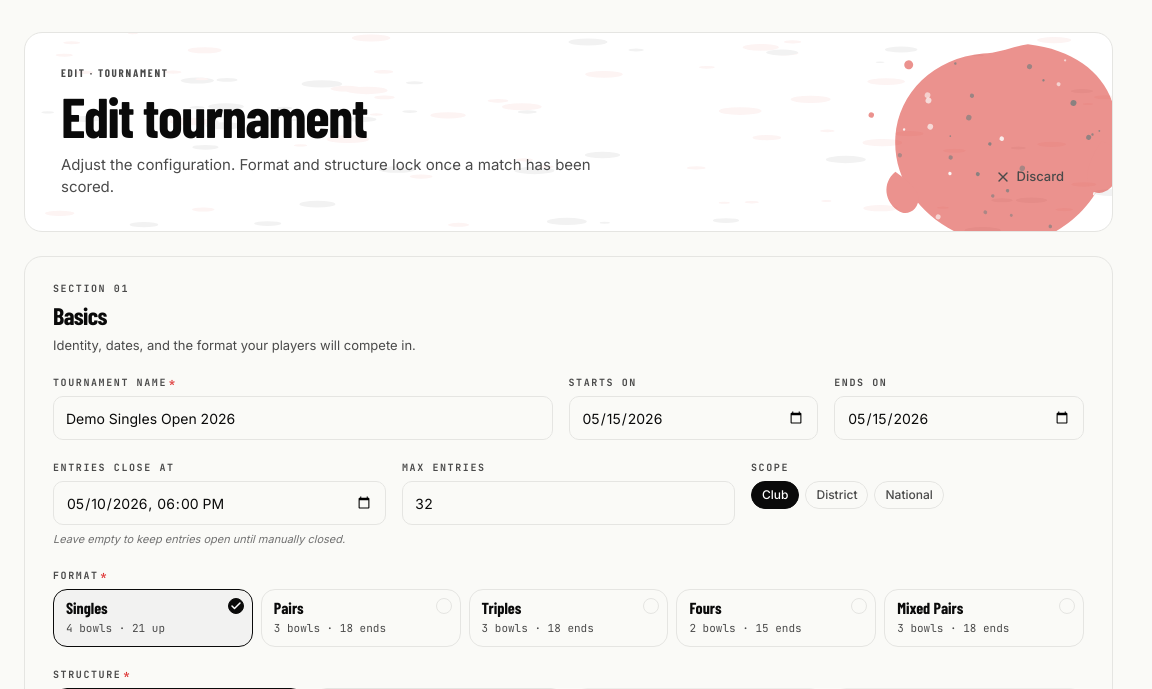
Test: <EditTournamentForm /> — rename soft-warn › shows the rename soft-warn when softWarnRename=true AND the user has typed a different name
Note: Synchronous React 19 controlled-input update via fireEvent.
Replace the text in the field labelled "Tournament name*" with "Demo Singles Open 2026 (renamed)" at (303, 418), box [53,396,552,440]
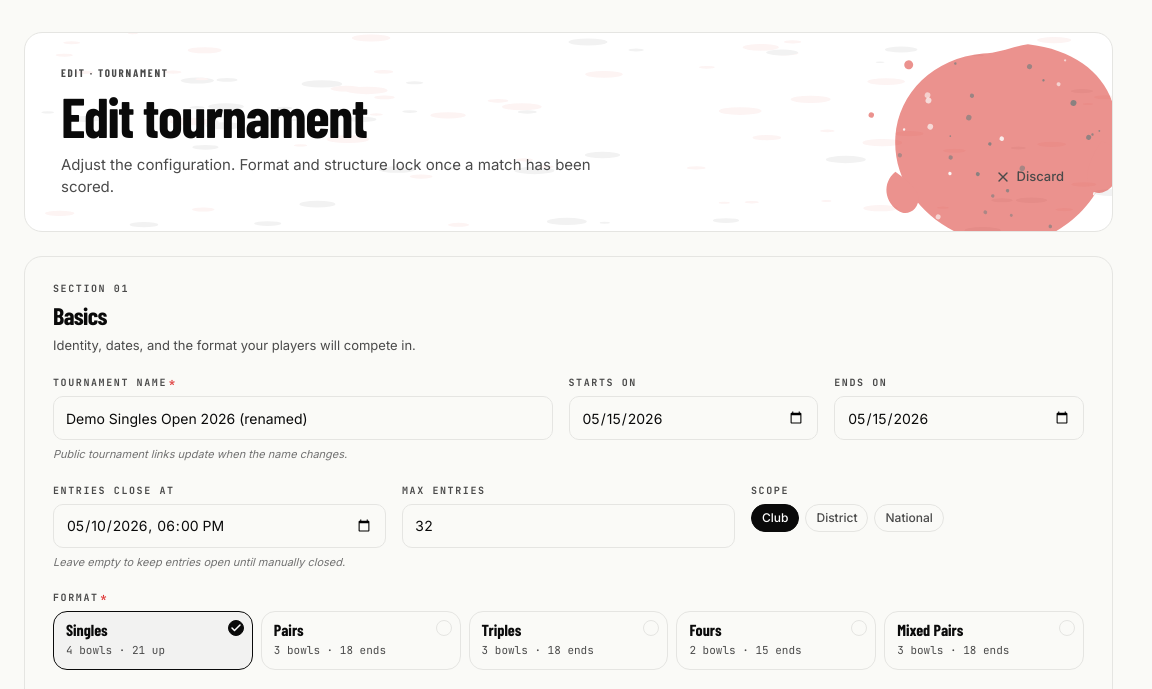
Check: the text "Public tournament links update" is shown, box [53,447,347,461]
